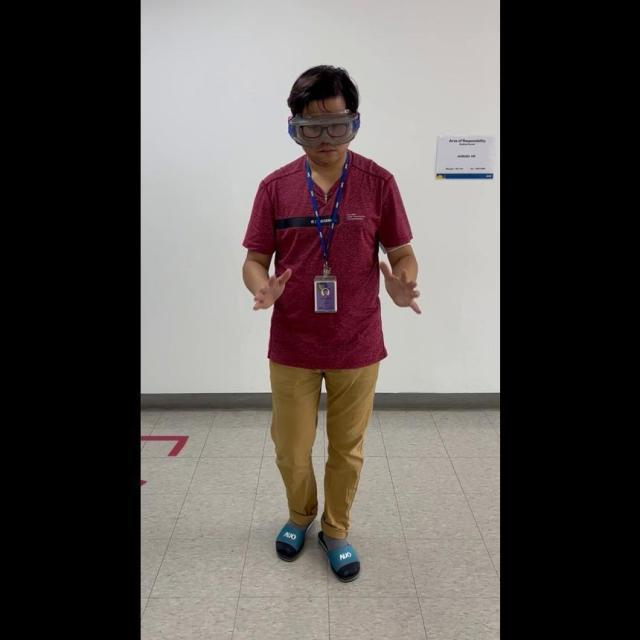bare_hand: (379, 255, 420, 314), (251, 263, 292, 313)
